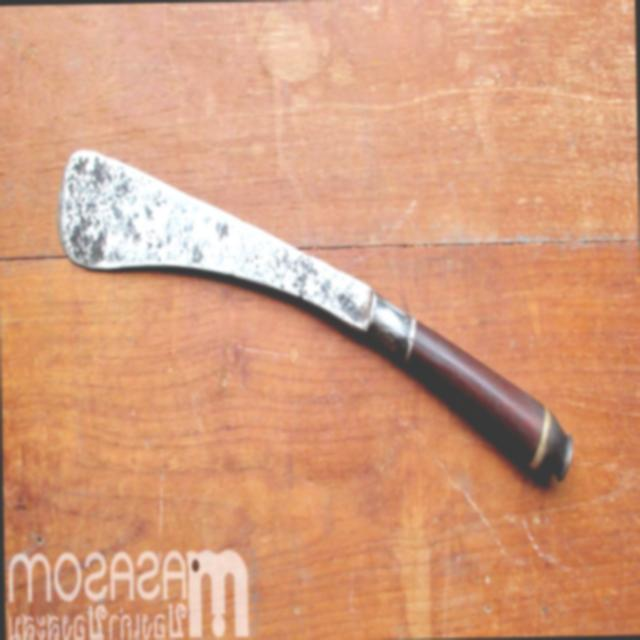eto: (54, 141, 581, 495)
